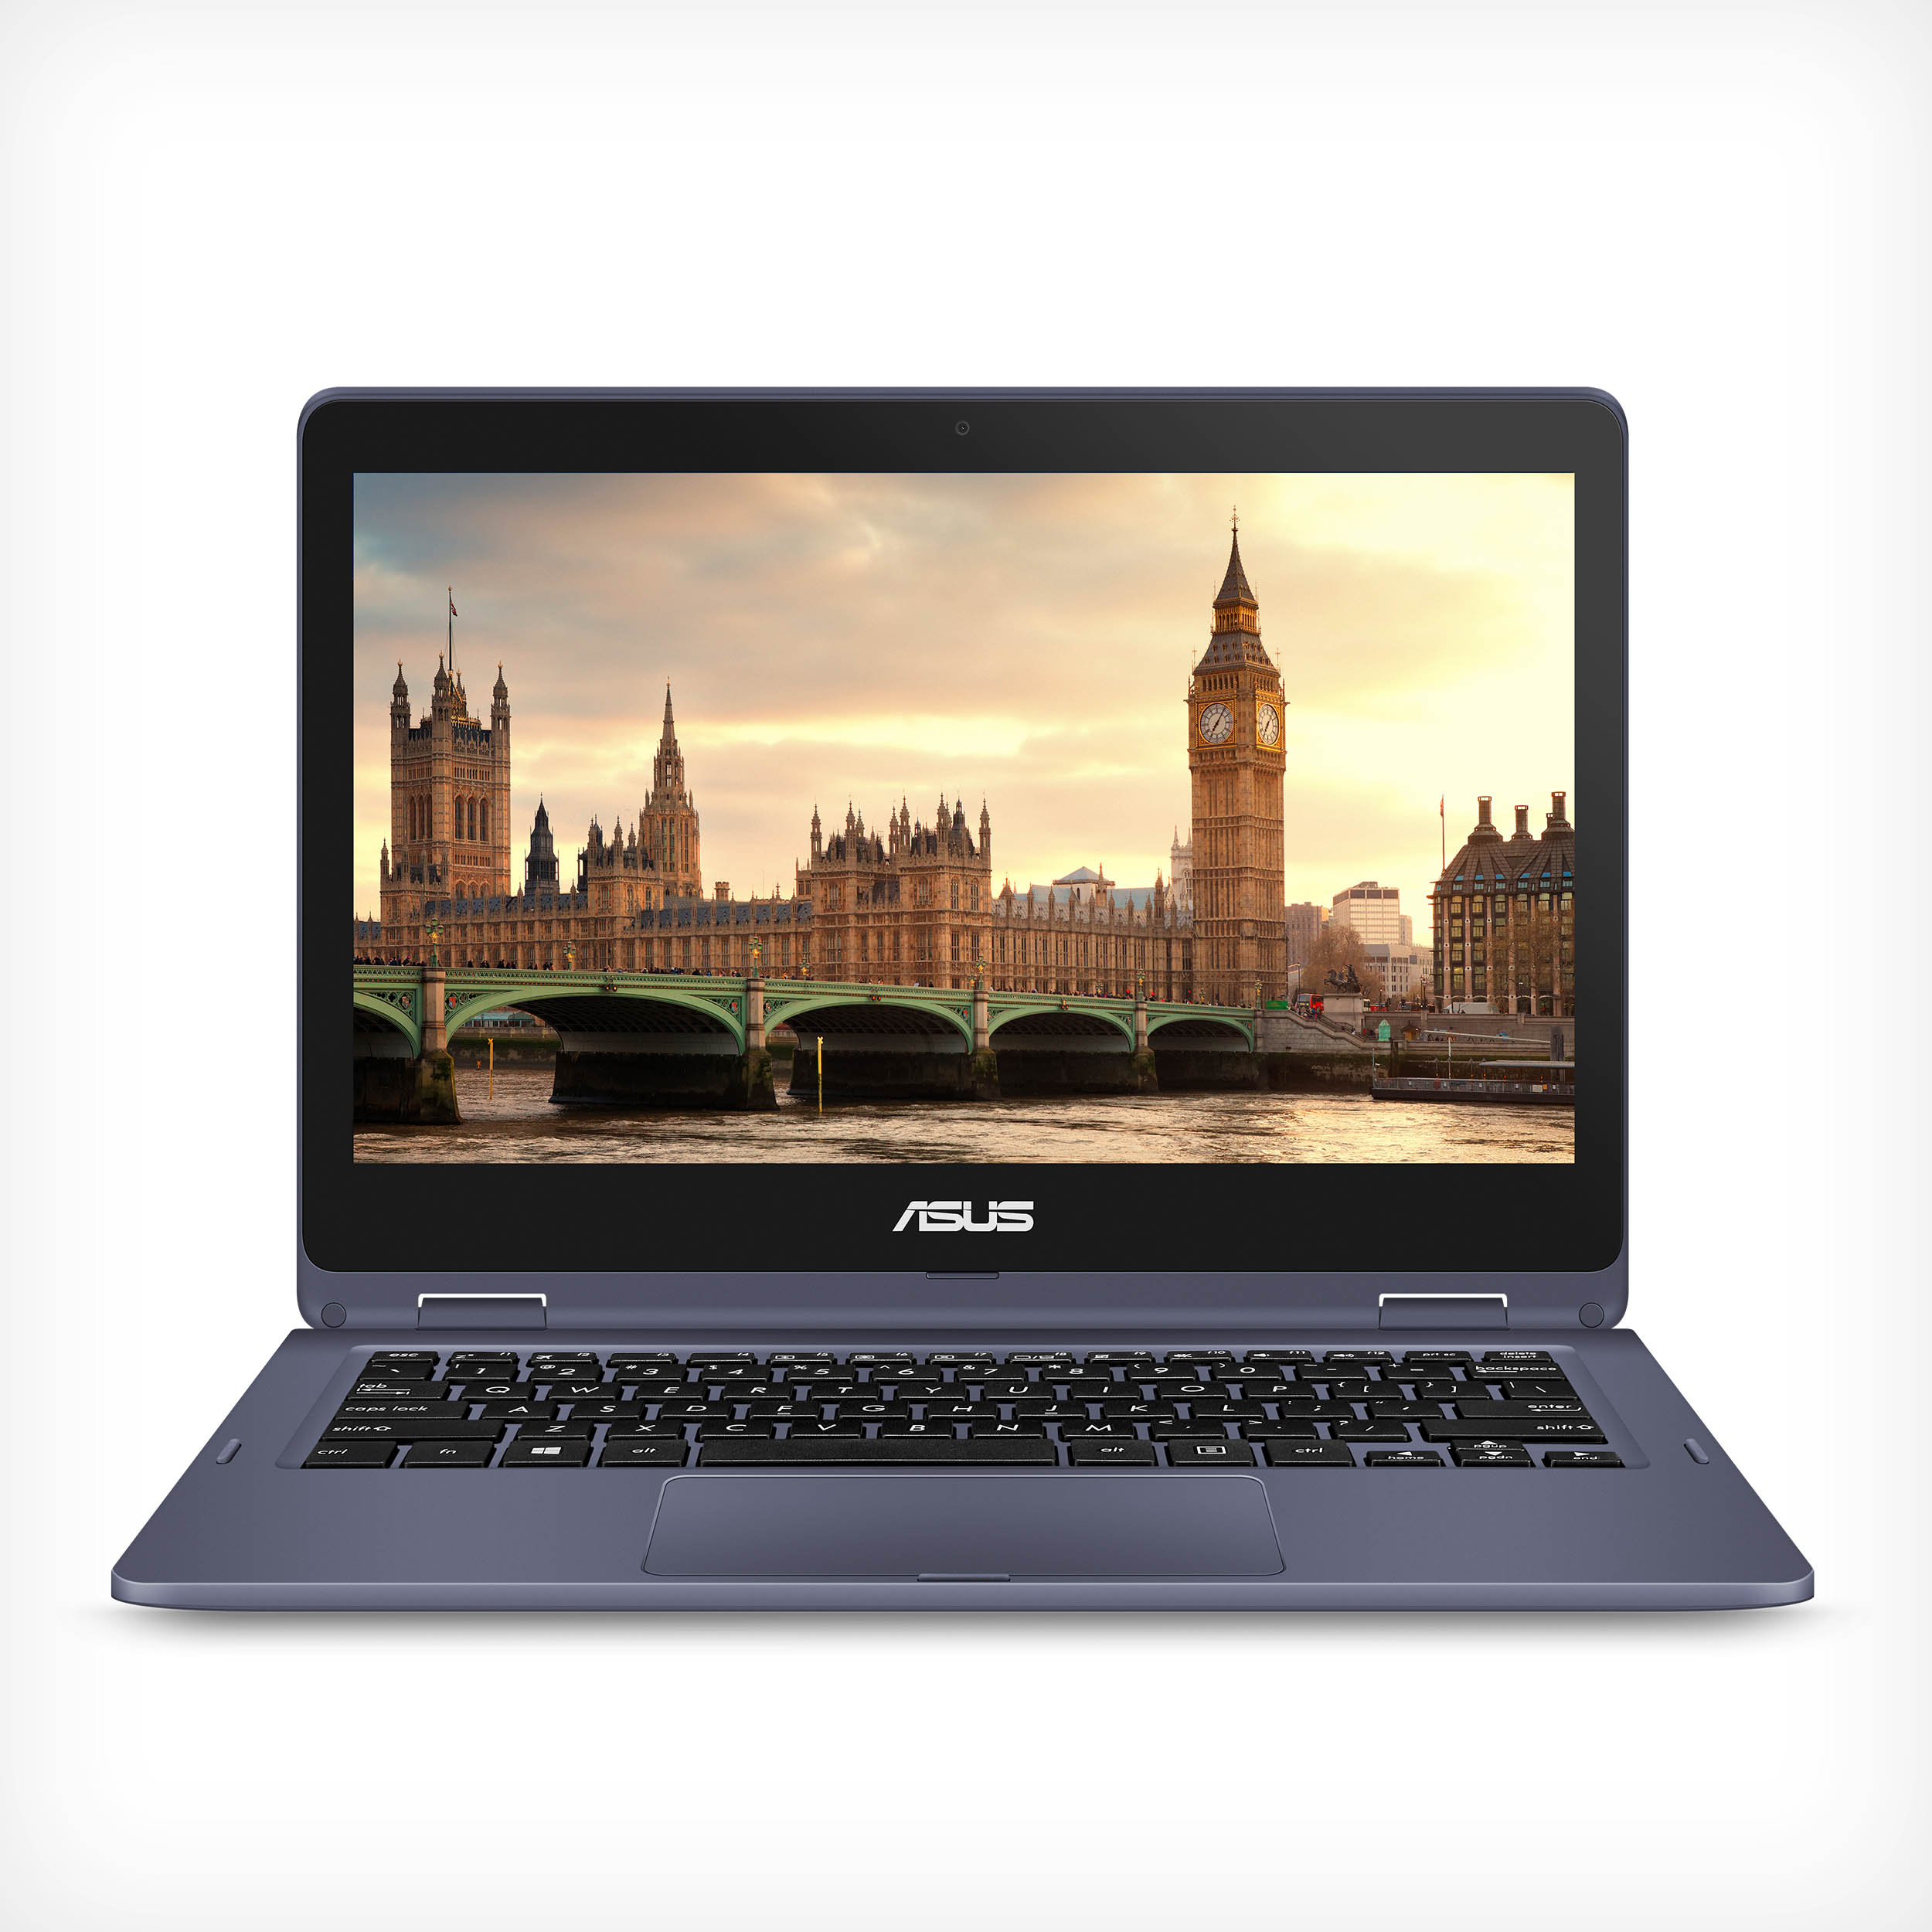Laptop: (88, 334, 1842, 1645)
